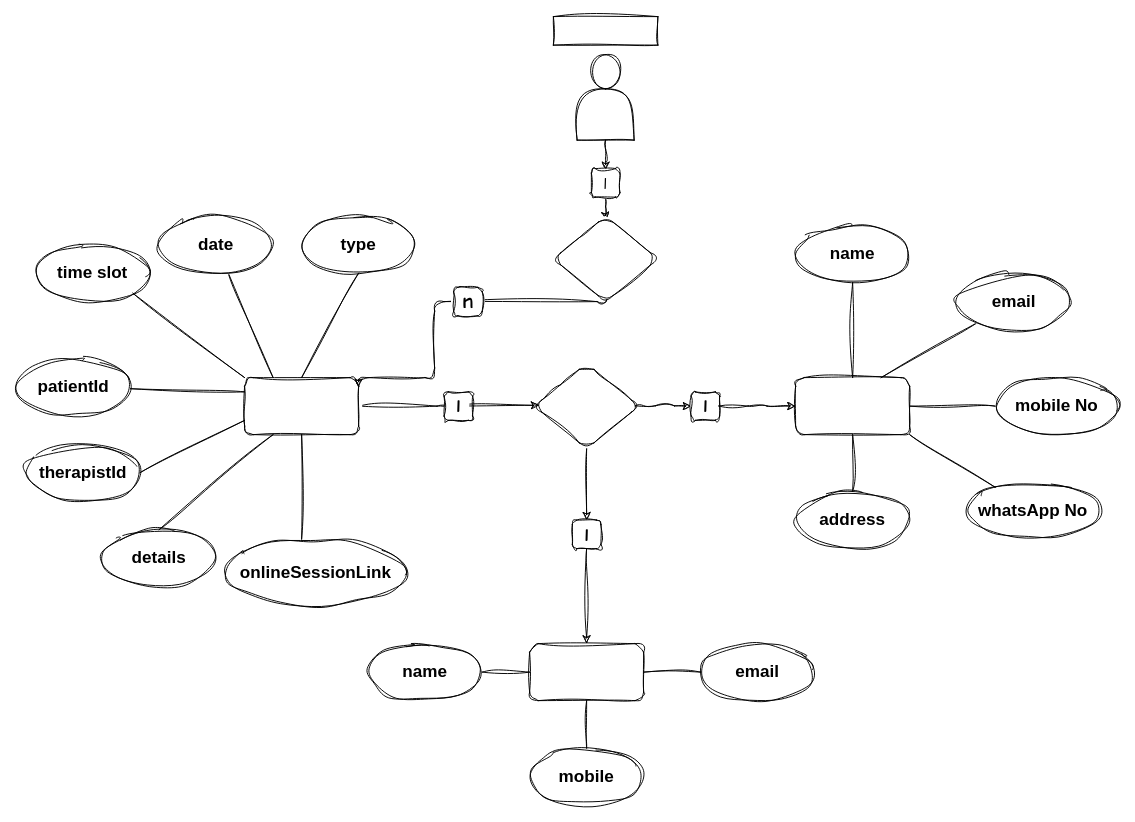
The diagram is 1135 pixels wide and 822 high, and some of its shapes have lost their labels. Here are the shapes that lost their labels. From the top down, the centre of each, then its label:
At (x=605, y=30): "ADMIN".
At (x=605, y=258): "creates".
At (x=301, y=406): "Sessions".
At (x=586, y=405): "contains".
At (x=852, y=406): "Patient".
At (x=586, y=672): "Therapist".
